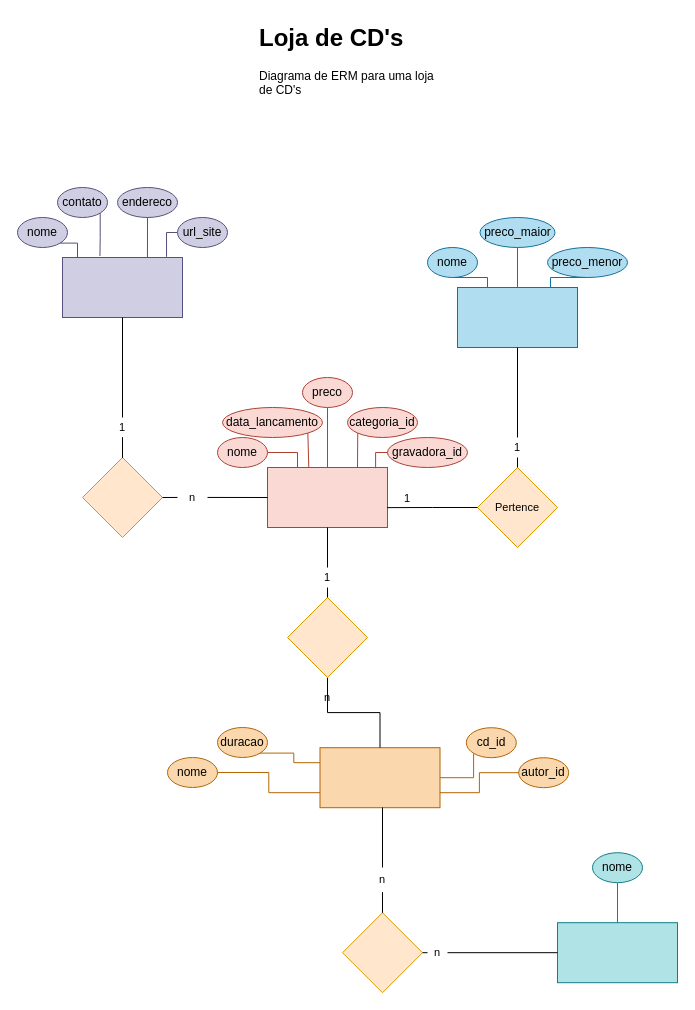
Some shapes in this 695 by 1010 pixel diagram are drawn without their labels. Each missing label, with the centre of its shape:
Autor: the point at 617,952
Categoria: the point at 517,317
CD: the point at 327,497
Detém: the point at 382,952
Gravadora: the point at 122,287
Guarda: the point at 327,637
Música: the point at 379,777
Possui: the point at 122,497
